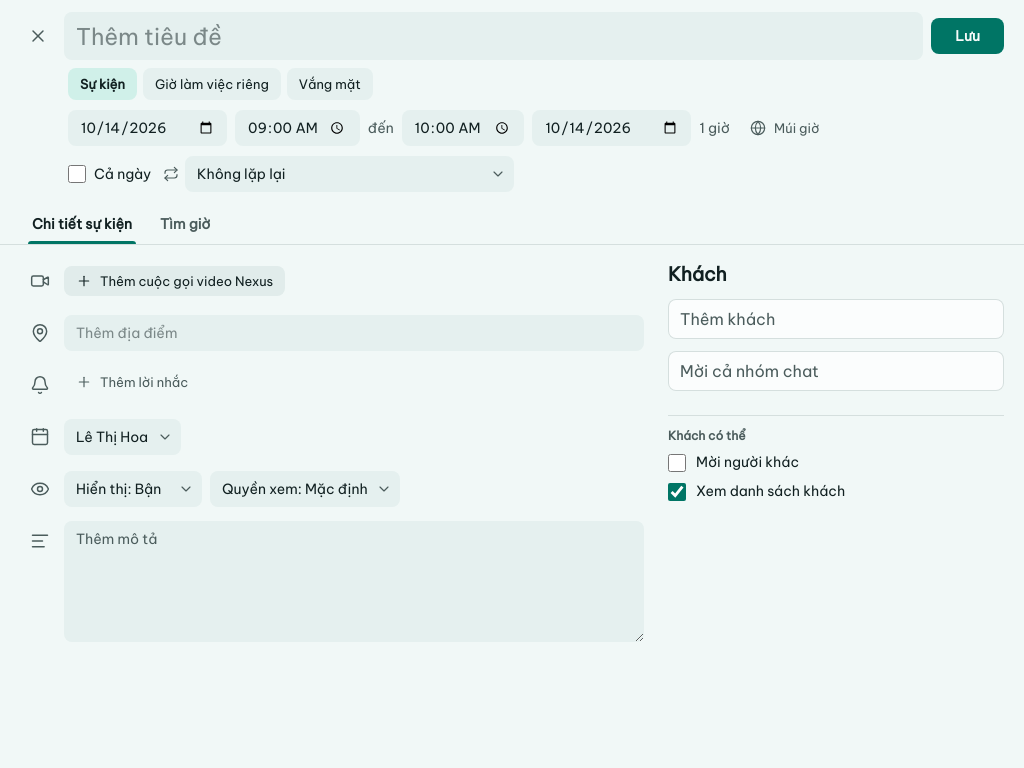
Test: the times › keeps the length when the start moves
Replace the text in the time field named "Giờ bắt đầu" with "13:30": (297, 128) [235, 110, 360, 146]
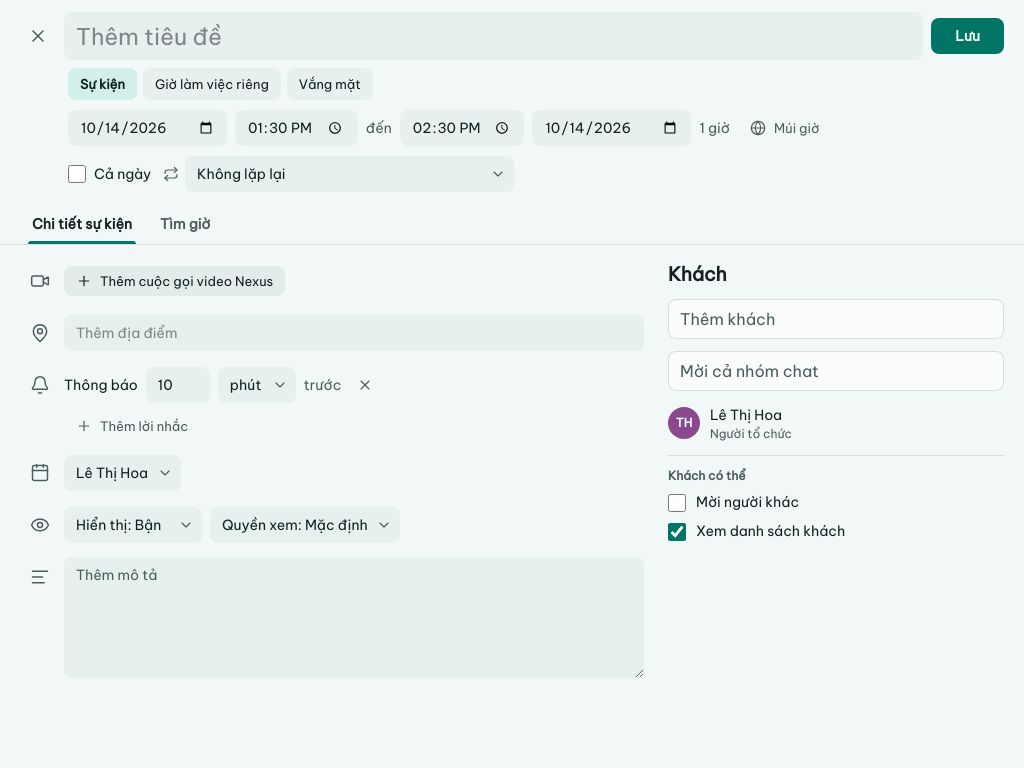
Result: the time field named "Giờ kết thúc" holds "14:30" at [400, 110, 524, 146]
